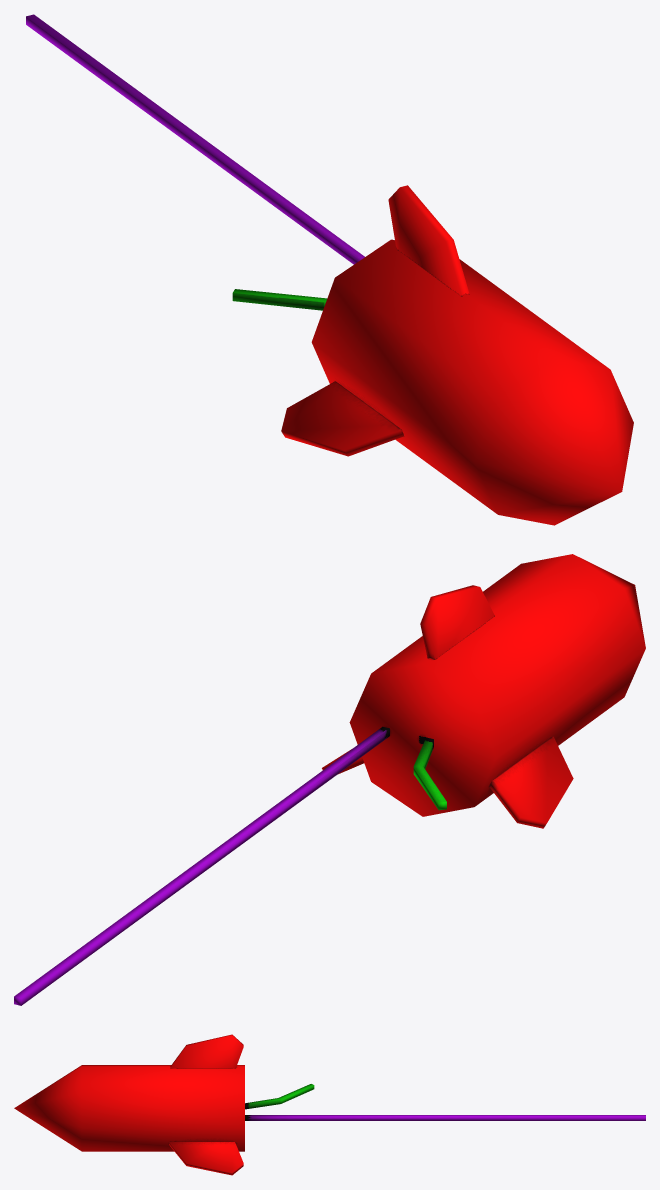
The model's file is rocket.fbx.
The picture shows the model from 3 angles, top to bottom: view 1: azimuth 30°, elevation 25°; view 2: azimuth 150°, elevation 25°; view 3: azimuth 270°, elevation 25°; orthographic projection. The views are drawn at different scales.
Parts seen in each view (by area): view 1: rocket-0; view 2: rocket-0; view 3: rocket-0.
Boxes of the visible parts, bbox=[...] form: rocket-0: bbox=[26, 14, 633, 525]; rocket-0: bbox=[14, 554, 645, 1005]; rocket-0: bbox=[14, 1034, 645, 1175].
Size of the model in its own units: 0.2465 by 0.22 by 1.1.
Materials: 3 (3 with a texture image).
